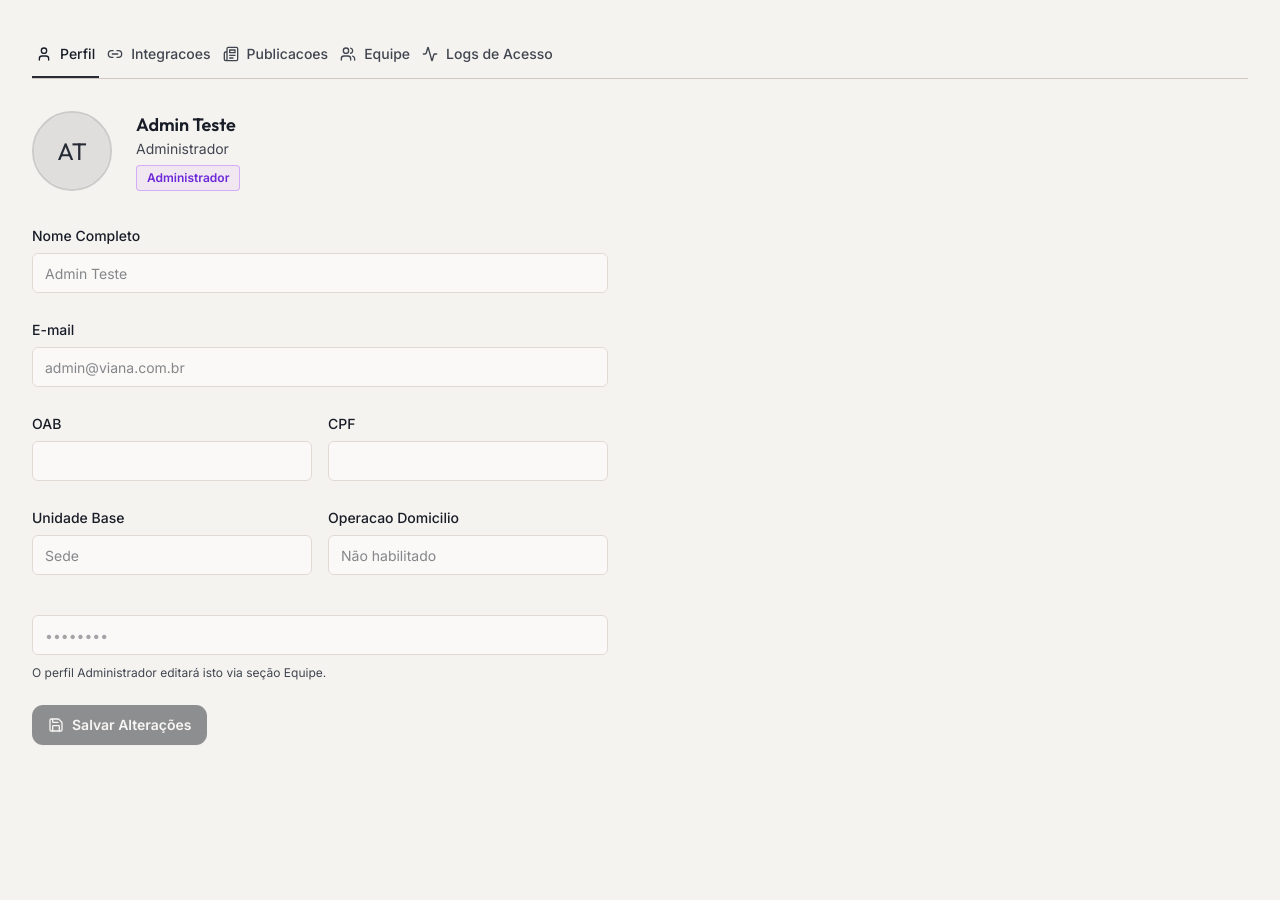
it: ConfiguracoesView › deve alternar para a aba Equipe e listar usuários
Click the button "Equipe": (375, 55) x1=336 y1=32 x2=414 y2=78
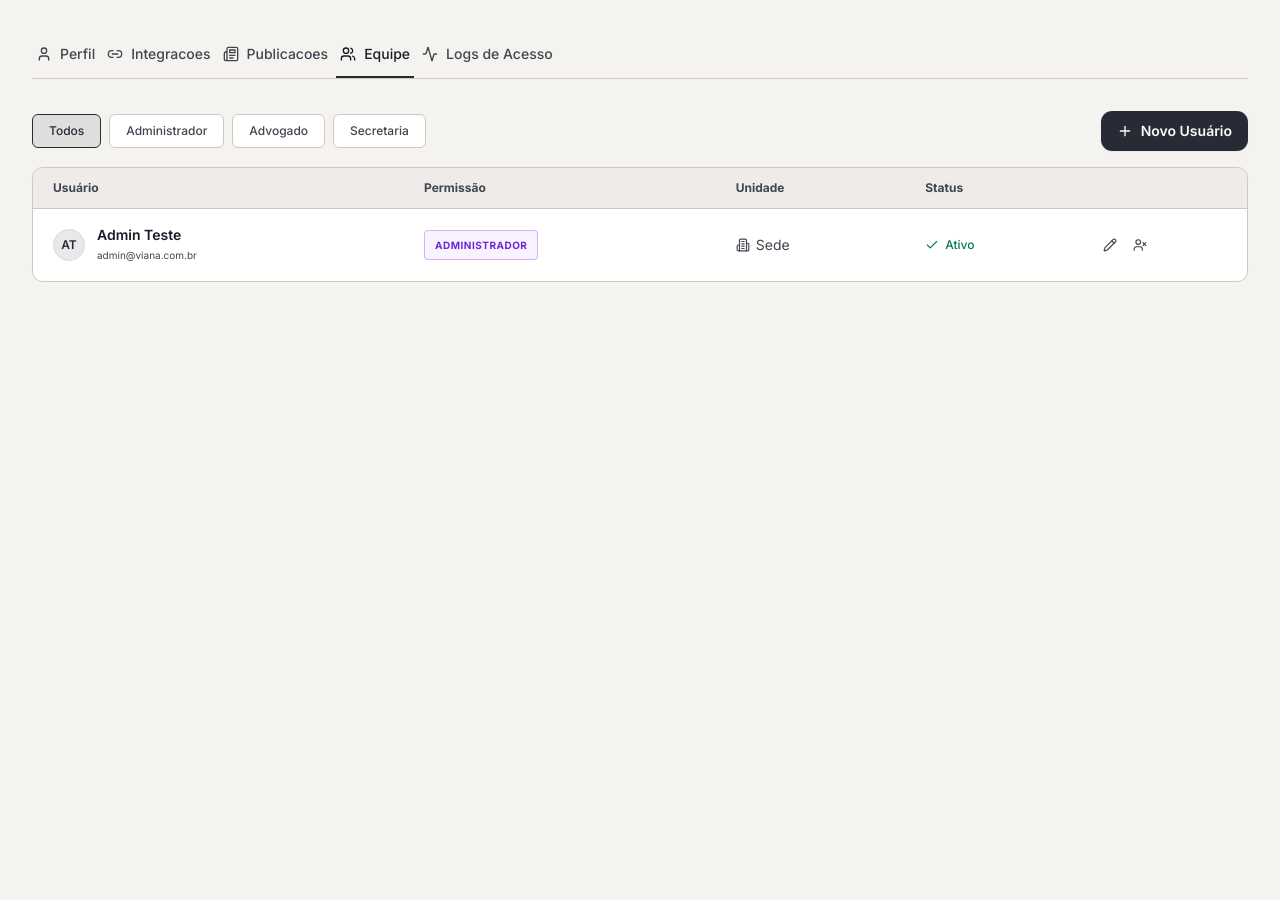
Expected: the column heading "Permissão" is shown, x1=404 y1=168 x2=716 y2=208
Expected: the text "admin@viana.com.br" is shown, x1=97 y1=245 x2=197 y2=265
